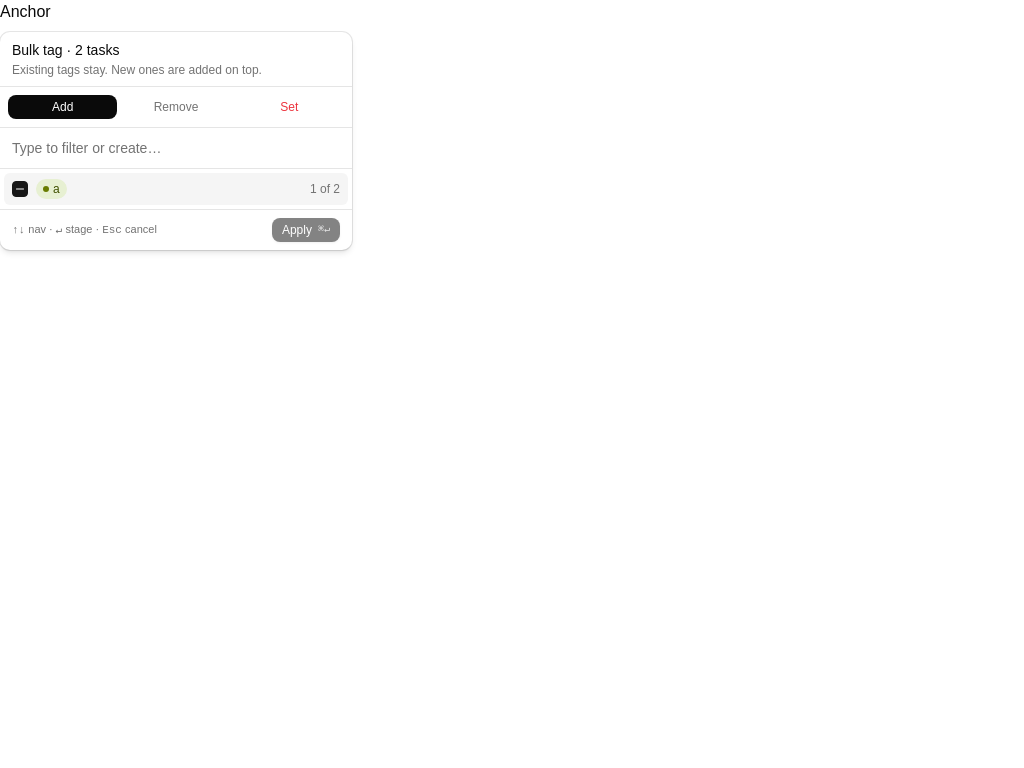
<BulkTagEditor> › selecting an indeterminate row stages it as a chip
Click the option "a 1 of 2". click: (51, 189)
box: [4,173,348,205]
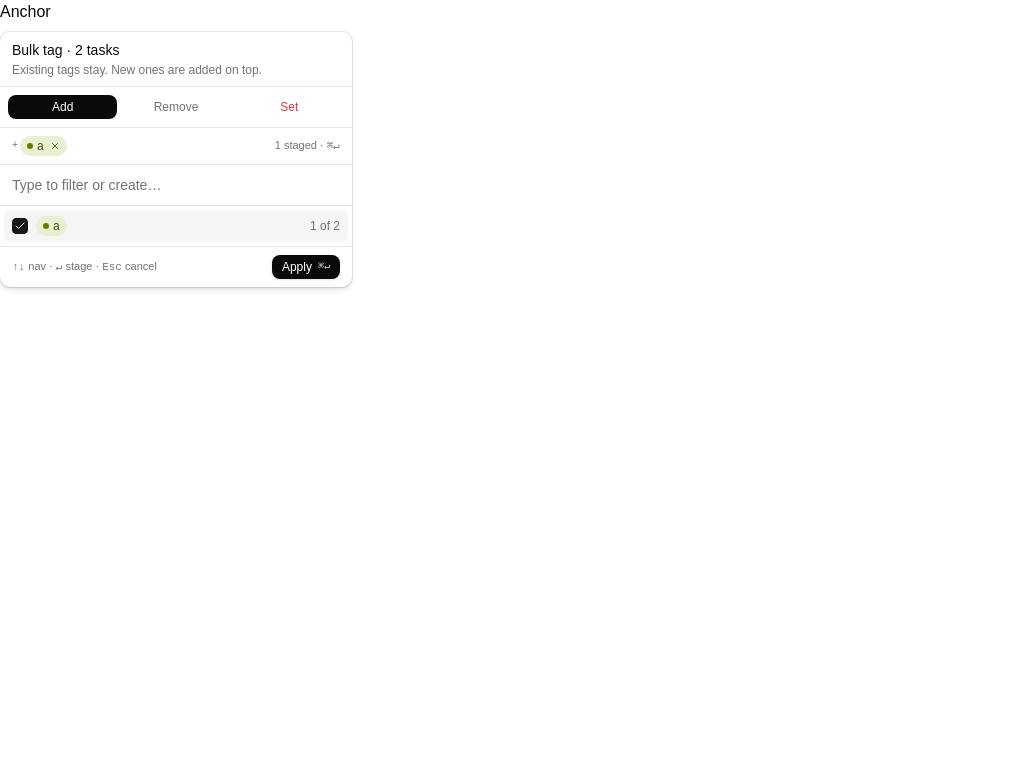
Expected: the element showing "+ a 1 staged · ⌘↵" is shown, [0,128,352,165]
